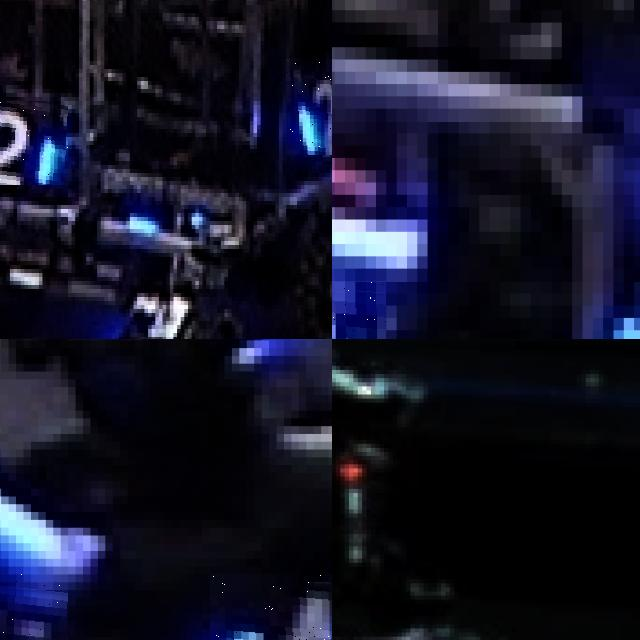B2: (0, 93, 68, 185), (286, 59, 332, 155)
B4: (209, 574, 332, 640)
